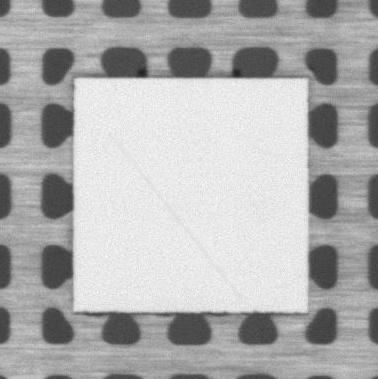DIE_CRACK: (109, 133, 240, 299)
